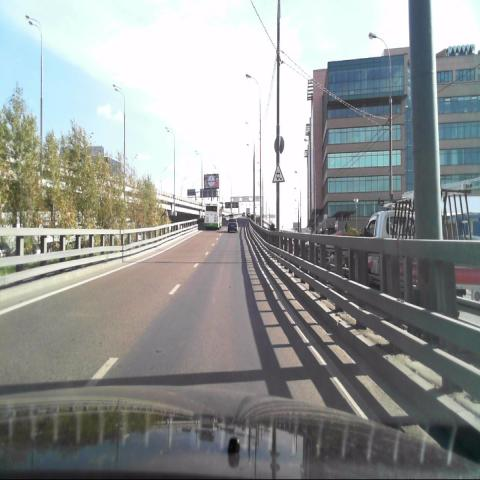1_15: (271, 162, 286, 184)
